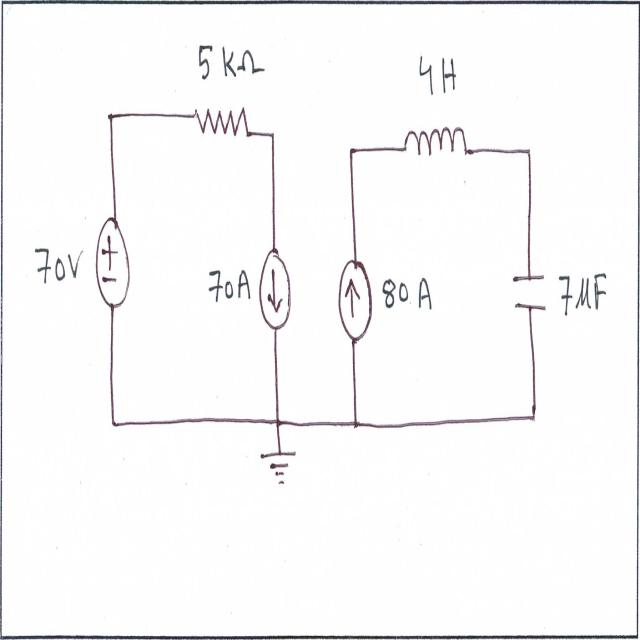capacitor: (509, 269, 551, 325)
current_source: (338, 250, 374, 348), (258, 241, 294, 333)
ground: (258, 445, 301, 495)
inductor: (402, 116, 468, 174)
resistor: (191, 102, 250, 150)
voltage_source: (95, 216, 135, 320)
